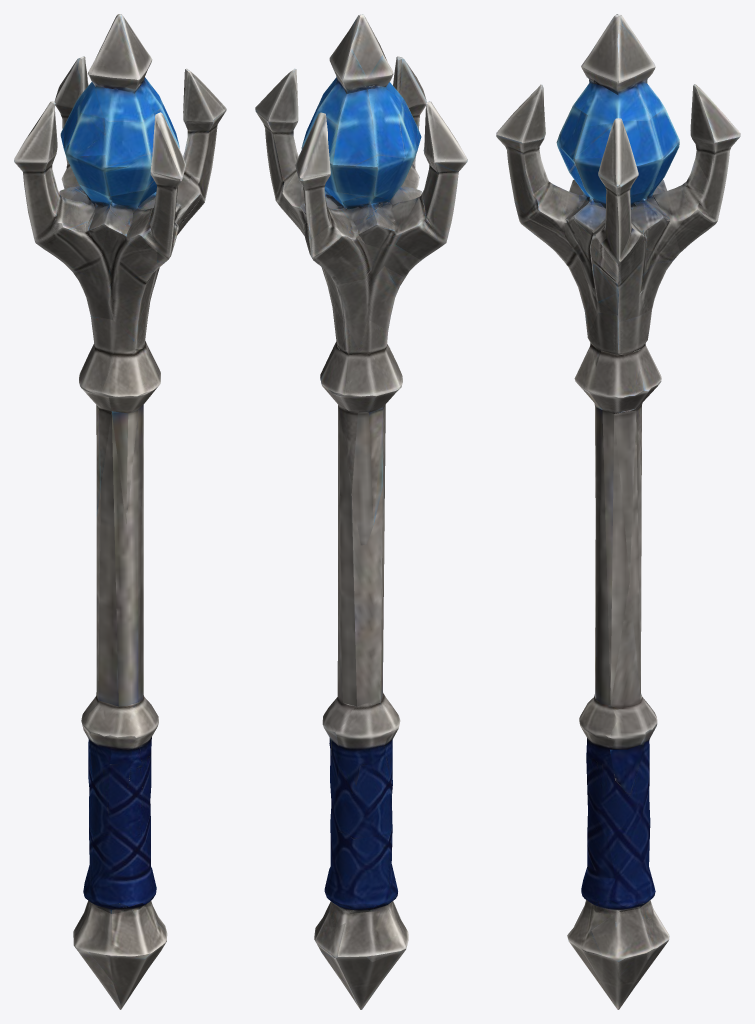
File: spellwright_wand.glb
3 renders of one model, left to right at view 1: azimuth 30°, elevation 25°; view 2: azimuth 150°, elevation 25°; view 3: azimuth 270°, elevation 25°, orthographic.
Bounding box in the file's own units: 0.2153 × 0.9661 × 0.2149.
Materials: 1 (1 with a texture image).
